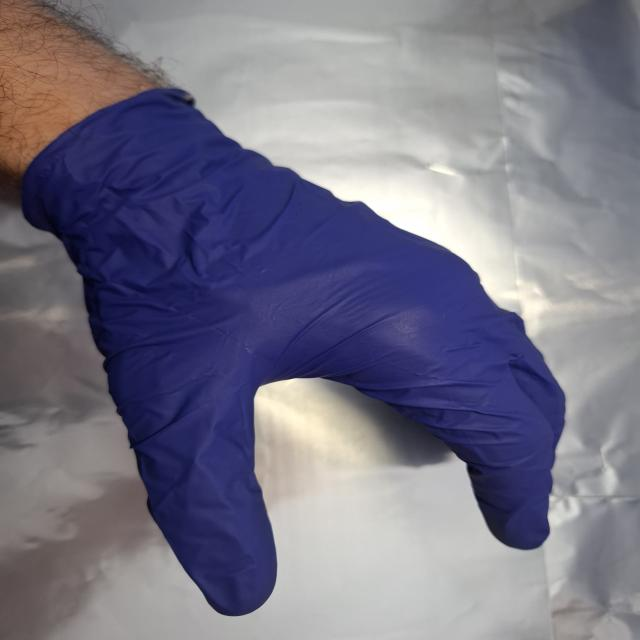glove_on: (25, 87, 575, 619)
